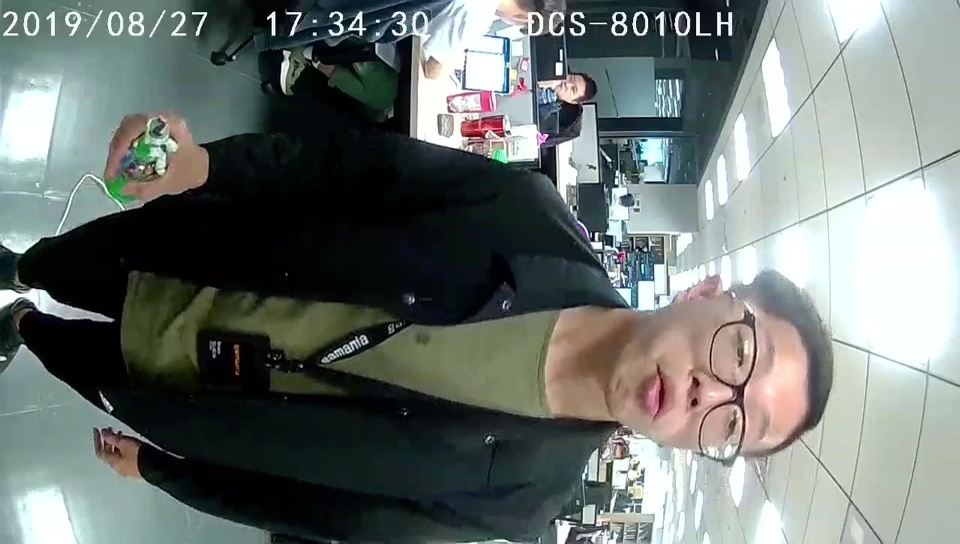buzz: (106, 116, 178, 201)
